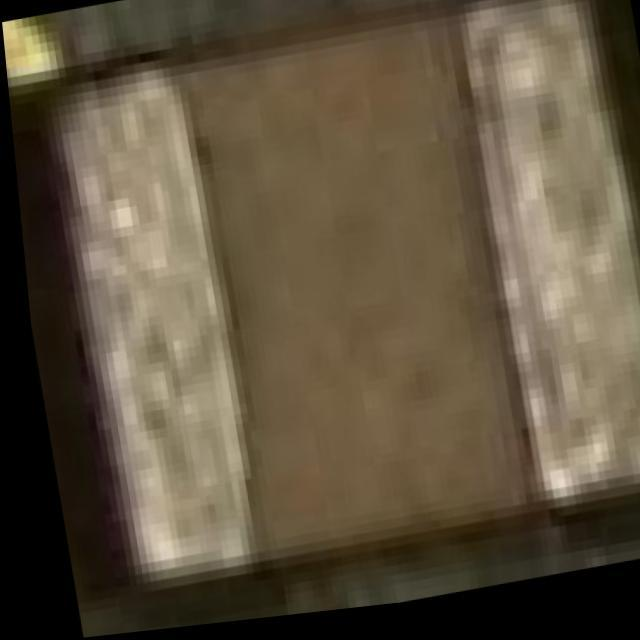Capacitor: (26, 0, 640, 599)
